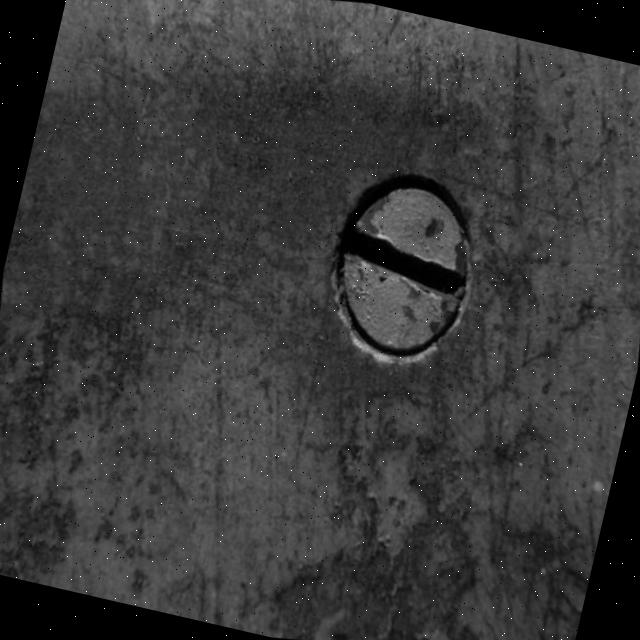Slotted: (298, 162, 520, 405)
